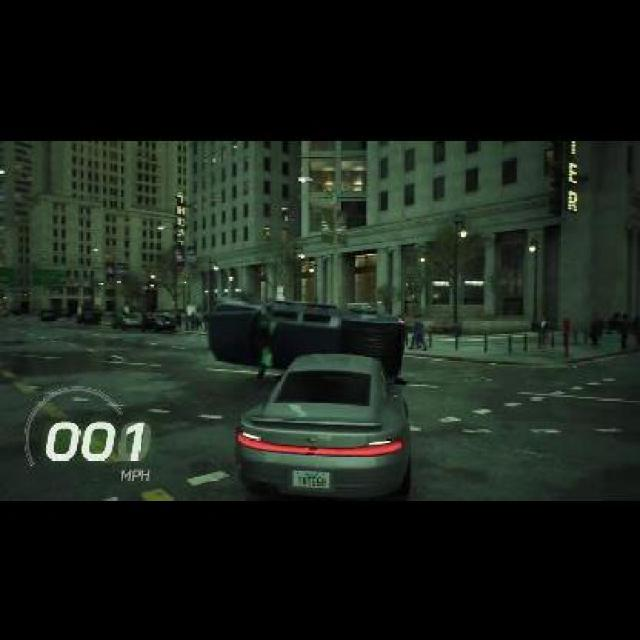accident: (165, 289, 448, 363)
